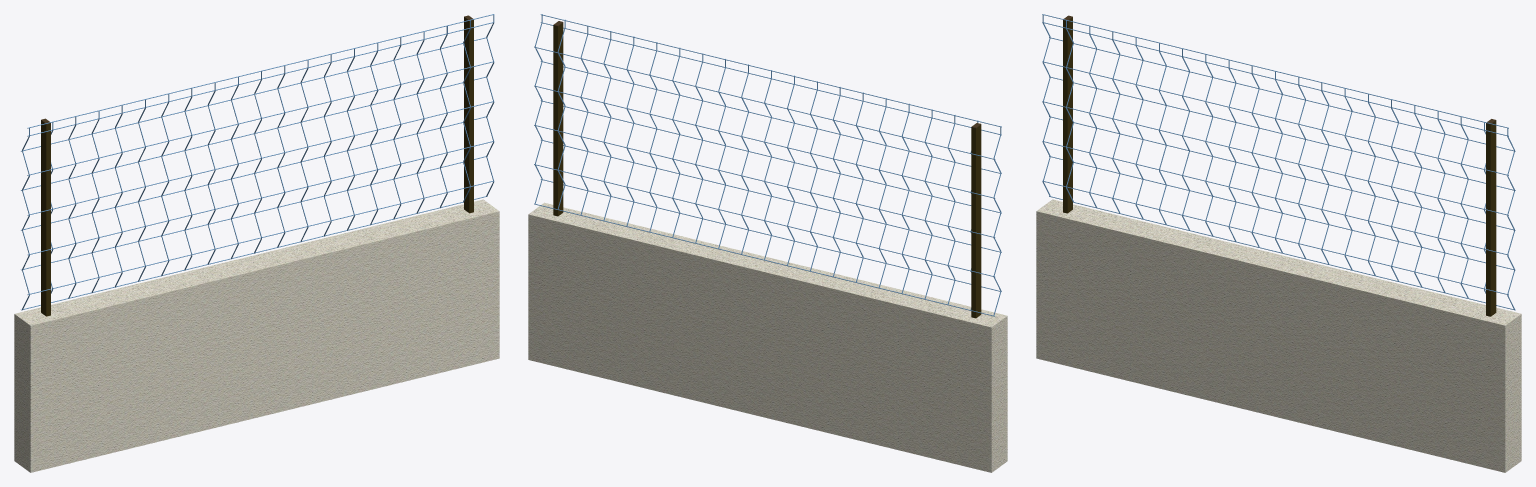
Rendered from toremeshsingle_h800_woodblue.fbx.
3 views of the same model, side by side, from view 1: azimuth 30°, elevation 25°; view 2: azimuth 150°, elevation 25°; view 3: azimuth 330°, elevation 25° (orthographic).
Parts seen in each view (by area): view 1: toremeshsingle_h800_blue_cb; view 2: toremeshsingle_h800_blue_cb; view 3: toremeshsingle_h800_blue_cb.
Part boxes in pixels (<box>): toremeshsingle_h800_blue_cb: <box>14,14,499,472</box>; toremeshsingle_h800_blue_cb: <box>528,14,1007,472</box>; toremeshsingle_h800_blue_cb: <box>1036,14,1521,472</box>.
Bounding box in the file's own units: 200 × 139 × 12.
Materials: 4 (3 with a texture image).
